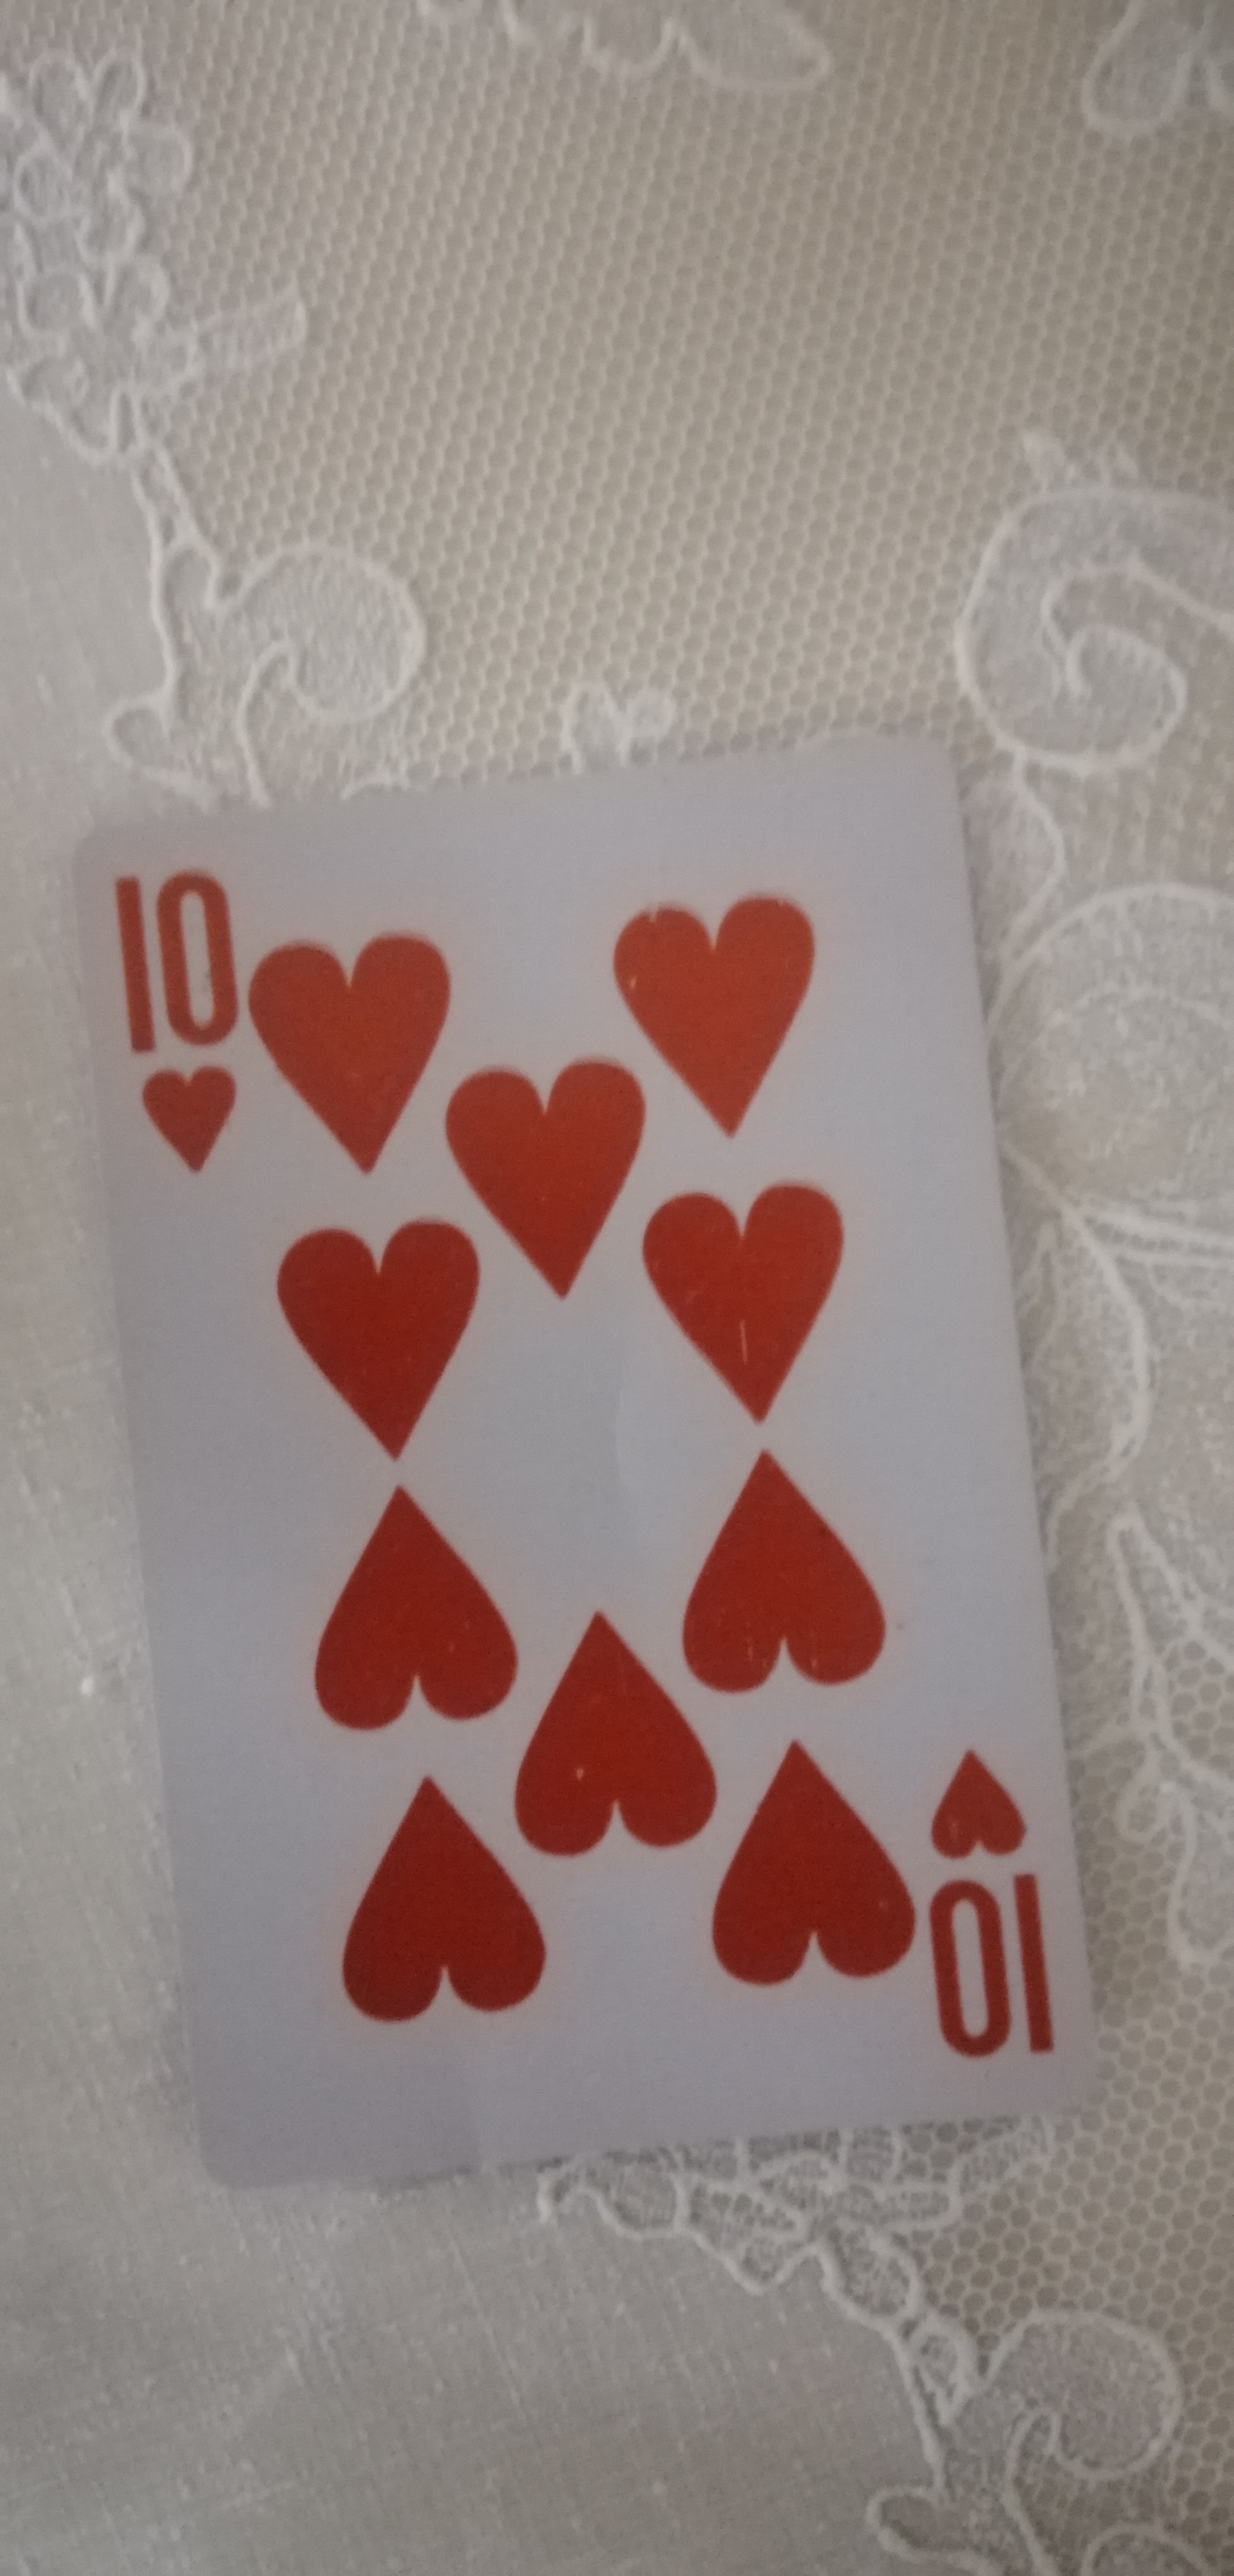ten: (30, 747, 1157, 2164)
